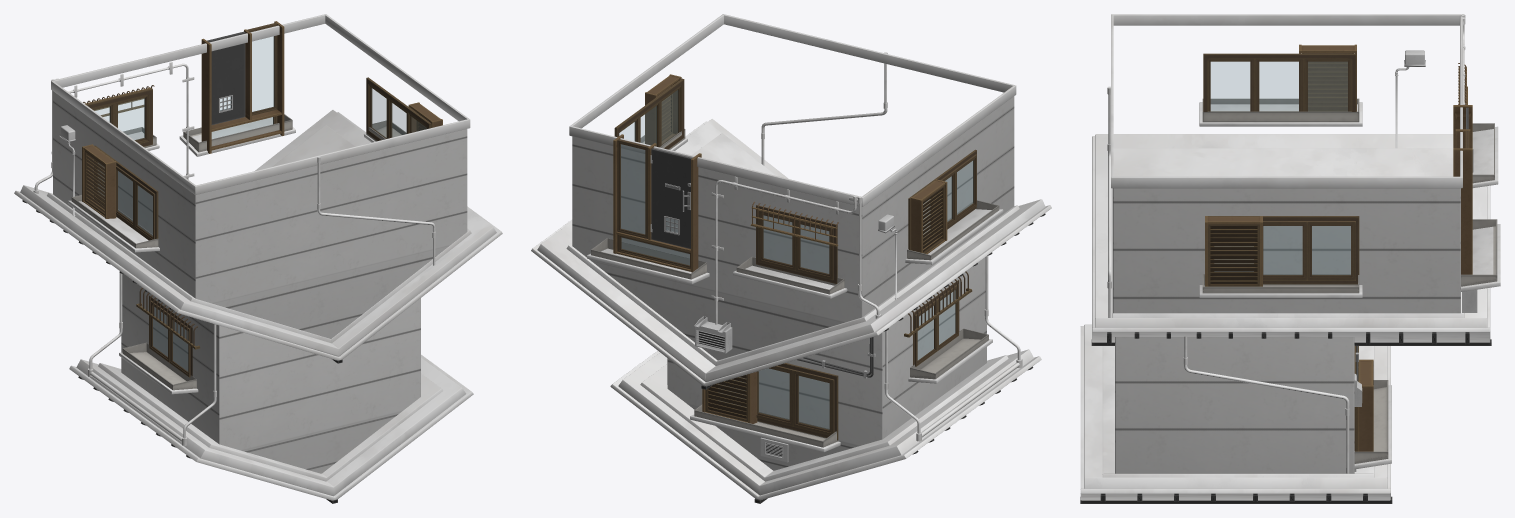
The model's file is anime-house-01.glb.
The picture shows the model from 3 angles, left to right: view 1: azimuth 30°, elevation 25°; view 2: azimuth 150°, elevation 25°; view 3: azimuth 270°, elevation 25°; orthographic projection. The views are drawn at different scales.
Parts seen in each view (by area): view 1: anime-house-01; view 2: anime-house-01; view 3: anime-house-01.
Part boxes in pixels (bbox=[...]): anime-house-01: bbox=[14, 14, 502, 503]; anime-house-01: bbox=[531, 14, 1051, 503]; anime-house-01: bbox=[1080, 14, 1500, 503].
Bounding box in the file's own units: 9.29 × 9.25 × 8.52.
16 materials, 15 textured.
